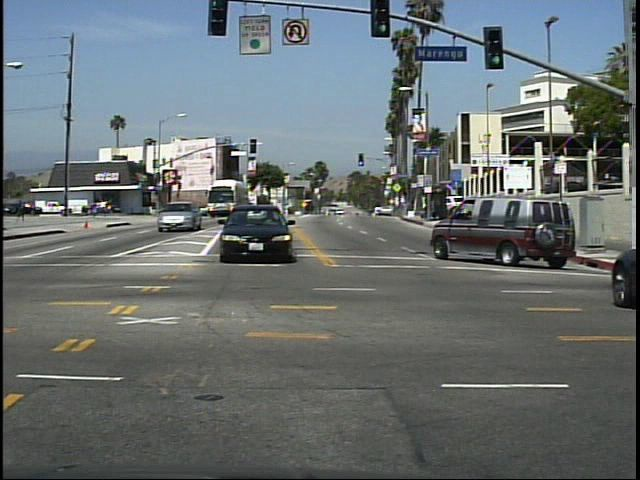person: (14, 197, 30, 225)
